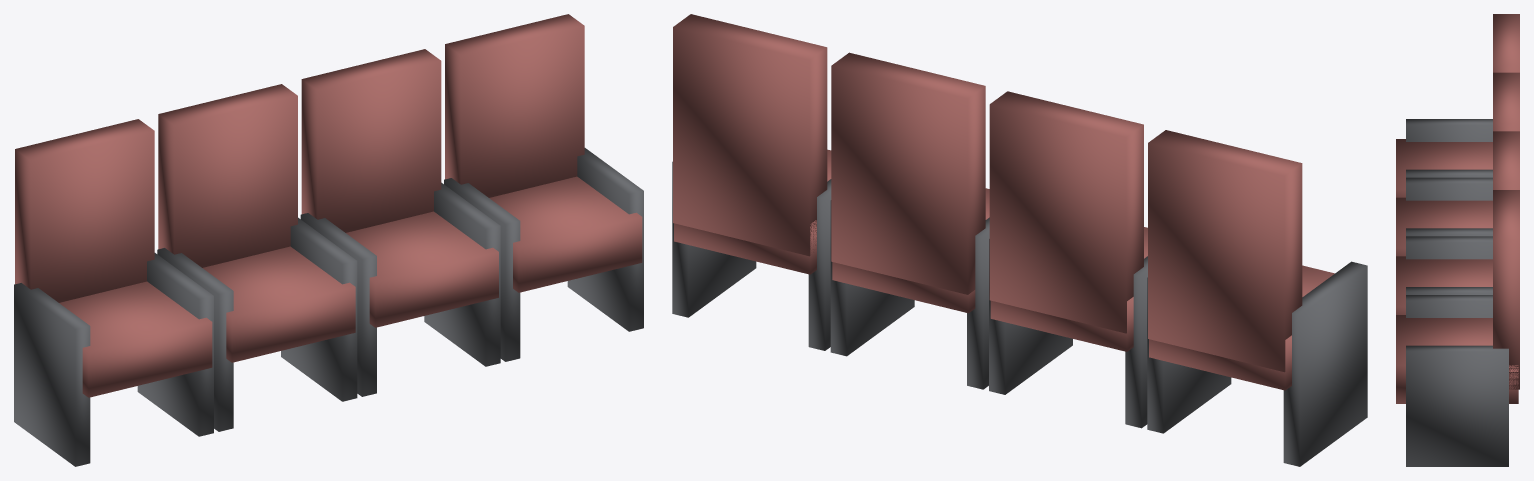
File: theater_seat_row__compact.glb
The picture shows the model from 3 angles, left to right: view 1: azimuth 30°, elevation 25°; view 2: azimuth 150°, elevation 25°; view 3: azimuth 270°, elevation 25°; orthographic projection. The views are drawn at different scales.
Visible parts, largest first — view 1: world; view 2: world; view 3: world.
Boxes of the visible parts, x1,y1,x2,y2 form: world: (14, 14, 643, 466); world: (672, 14, 1367, 466); world: (1396, 14, 1519, 466).
Bounding box in the file's own units: 1.93 × 0.8649 × 0.4343.
